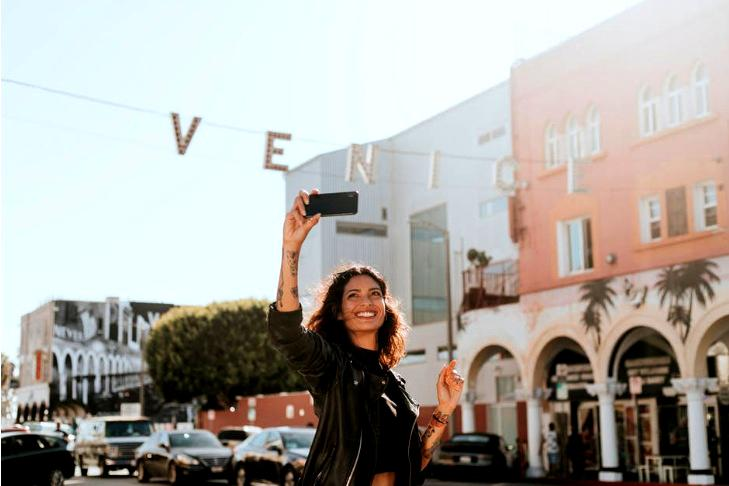face: (343, 273, 385, 330)
